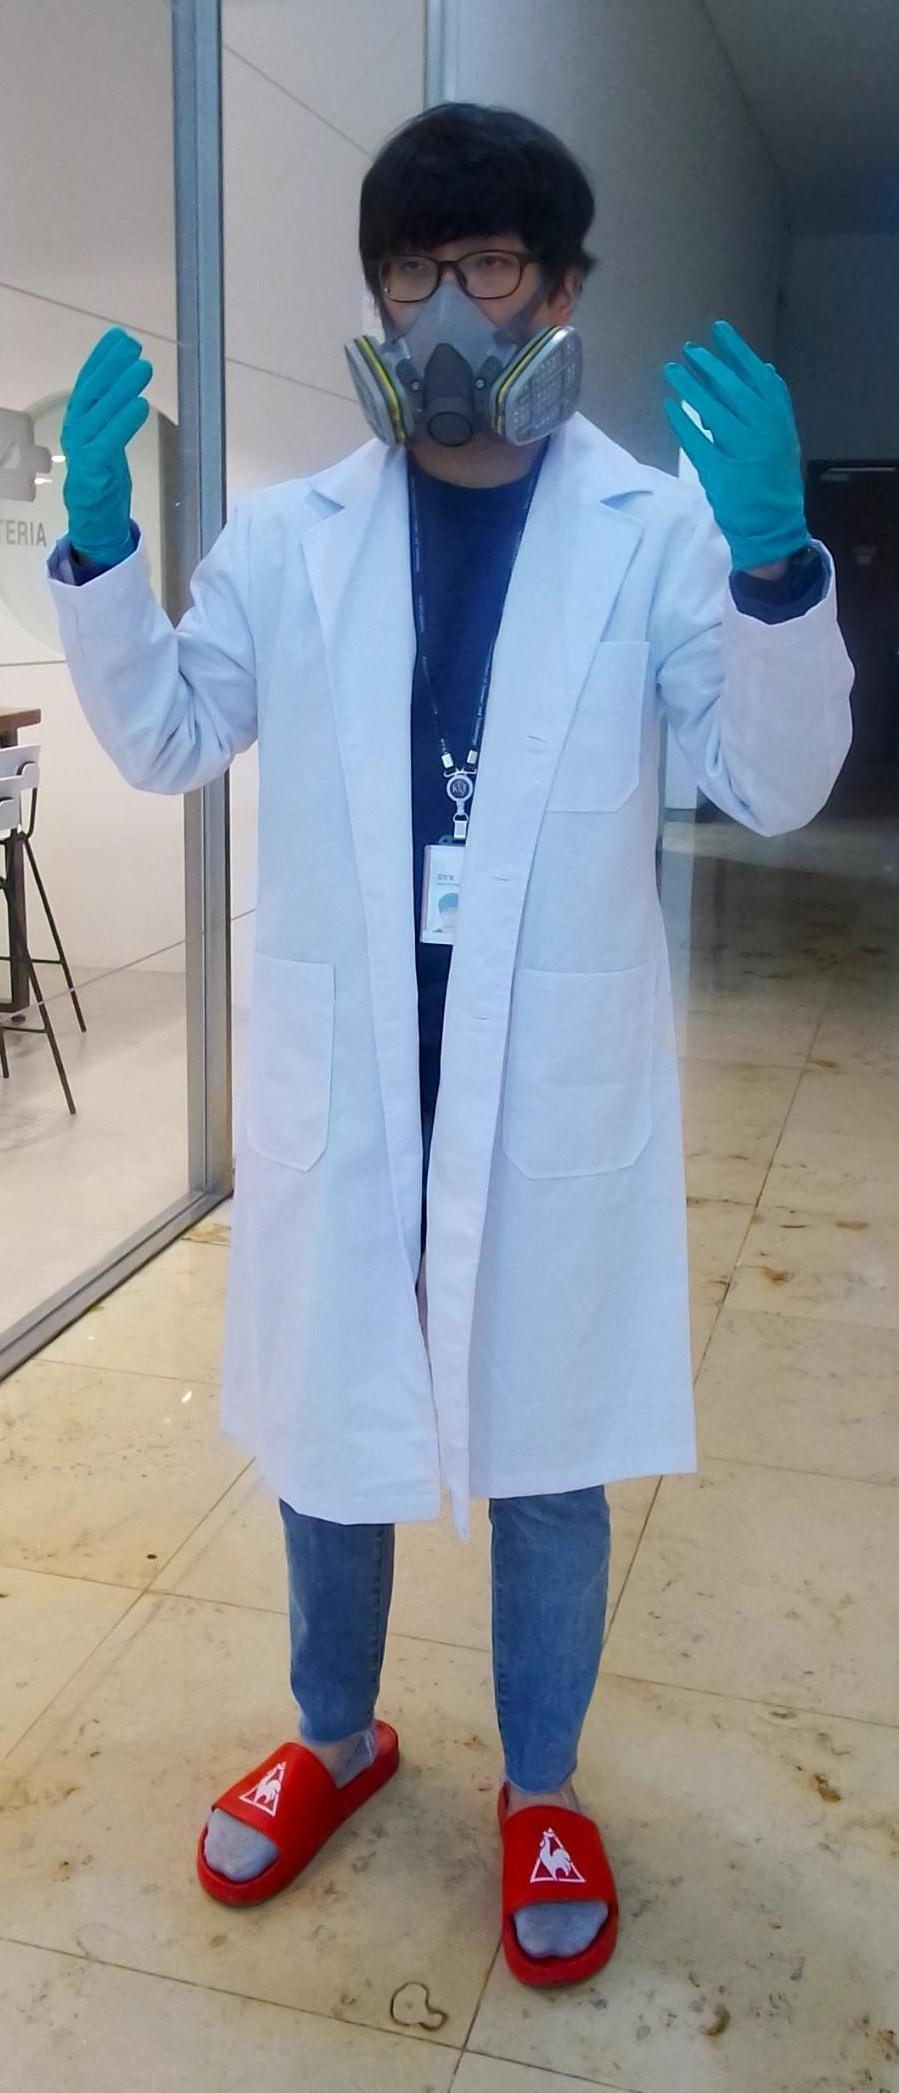lab_coat: (187, 477, 701, 1518)
